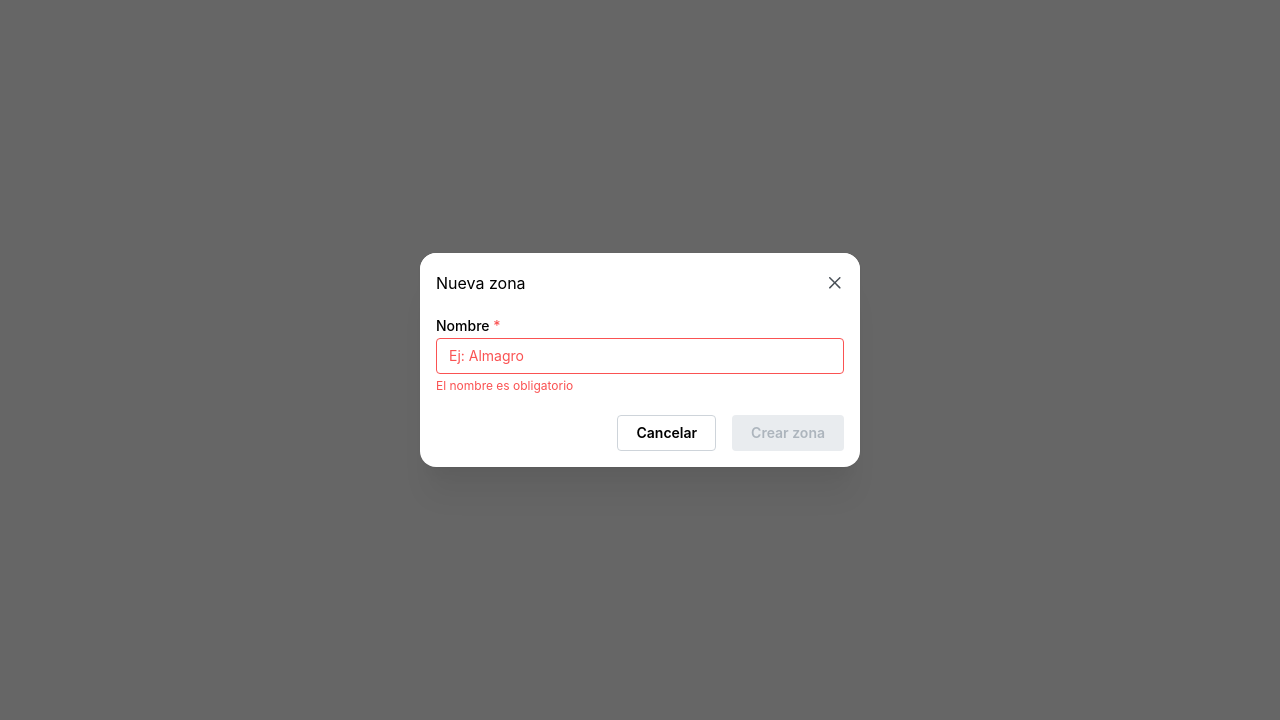
ModalZona › muestra error si el nombre ya existe
Type "Palermo" into the field labelled "Nombre *".
click(640, 356); type("Palermo")  # box [436, 338, 844, 374]
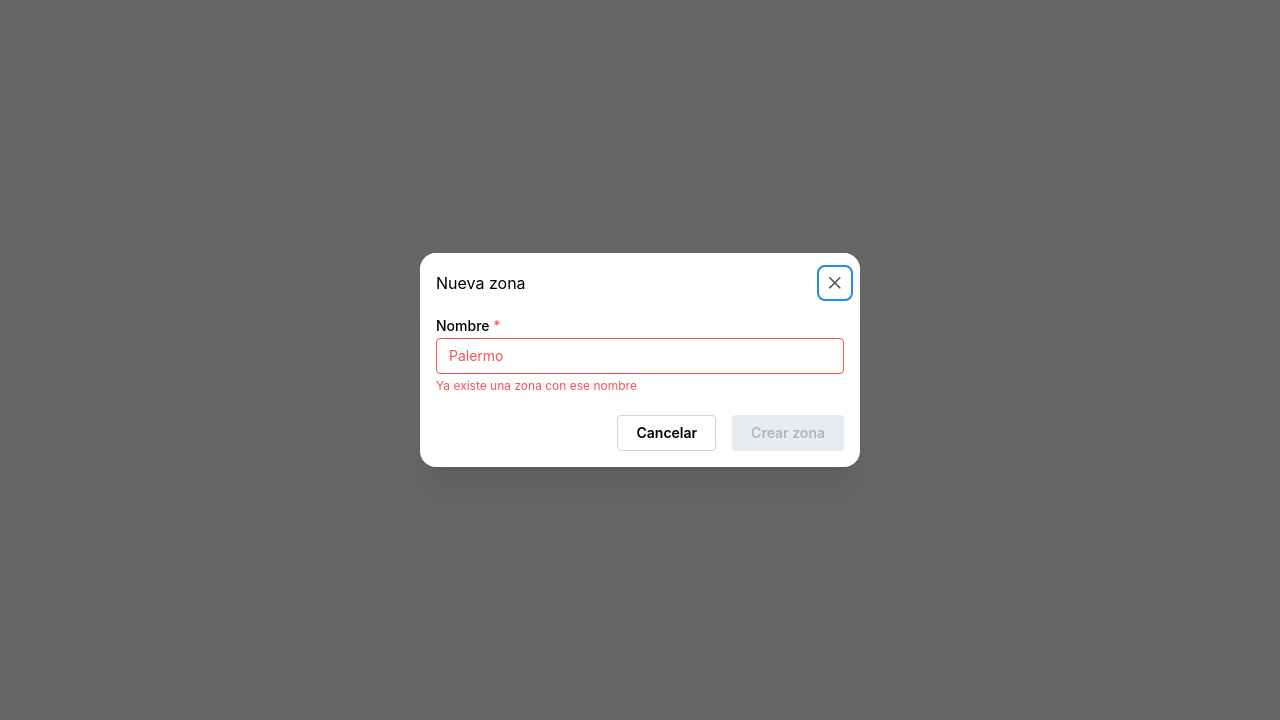
Expected: the button "Crear zona" is disabled, [732, 415, 844, 451]
Expected: the text "Ya existe una zona con ese nombre" is shown, [436, 378, 637, 393]
